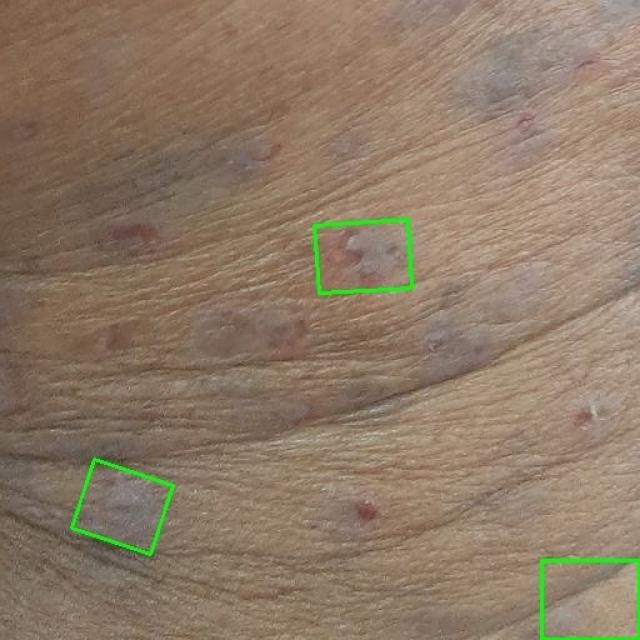Contact Dermatitis: (71, 459, 173, 555), (541, 560, 639, 639), (315, 220, 412, 293)
